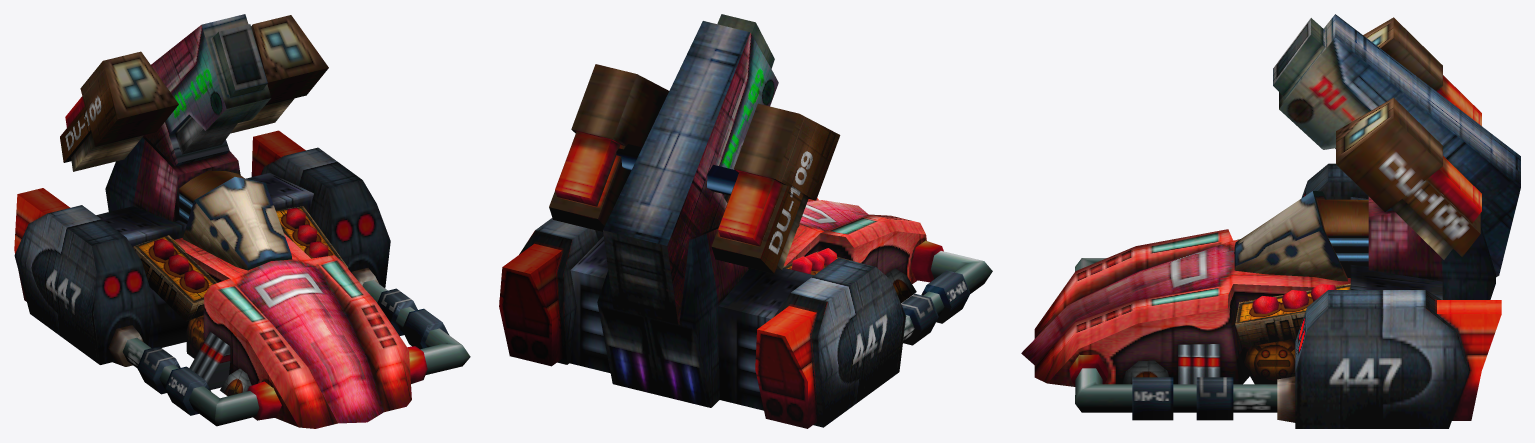
The model's file is datan_common_B0005_60c70117.obj.
The picture shows the model from 3 angles, left to right: view 1: azimuth 30°, elevation 25°; view 2: azimuth 150°, elevation 25°; view 3: azimuth 270°, elevation 25°; orthographic projection. The views are drawn at different scales.
Parts seen in each view (by area): view 1: datan_common_B0005_60c70117_mesh00; view 2: datan_common_B0005_60c70117_mesh00; view 3: datan_common_B0005_60c70117_mesh00.
Boxes of the visible parts, x1=… form: datan_common_B0005_60c70117_mesh00: x1=14, y1=14, x2=470, y2=428; datan_common_B0005_60c70117_mesh00: x1=499, y1=14, x2=992, y2=428; datan_common_B0005_60c70117_mesh00: x1=1021, y1=14, x2=1520, y2=428.
Size of the model in its own units: 5.55 by 5.52 by 7.38.
1 material, 1 textured.
